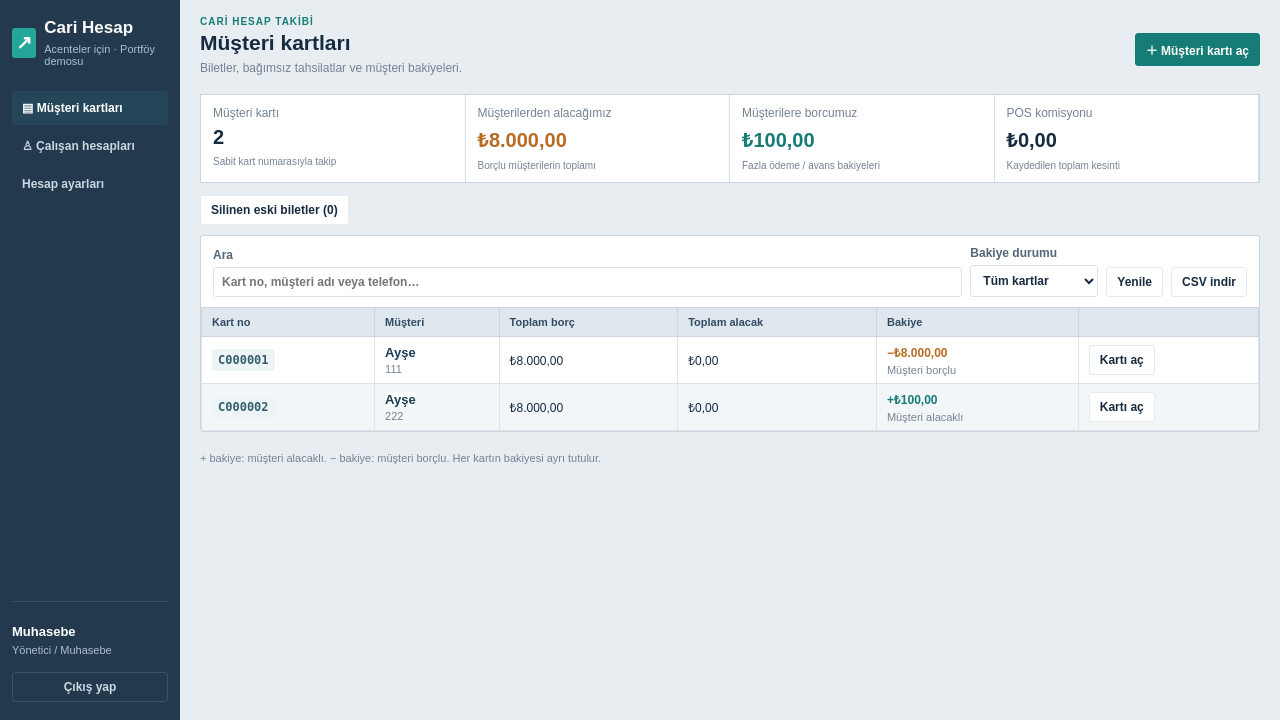
distinct cards with the same name can be searched by card ID
Check: the text "C000002" is shown, box [212,396,275,418]
In the field with placeholder "Kart no, müşteri adı veya telefon…": (588, 282) [213,267,962,297], type "C000001"
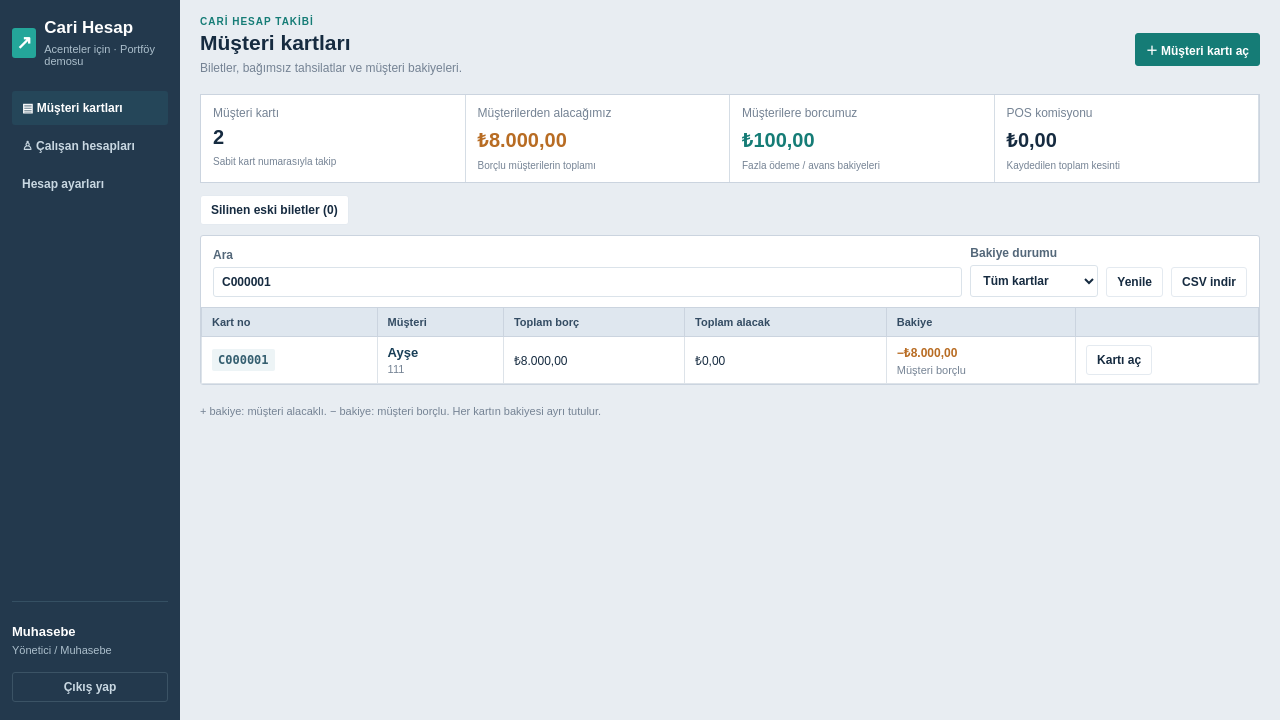
Check: the text "C000001" is shown, box [212,349,275,371]
Check: the text "C000002" is gone
